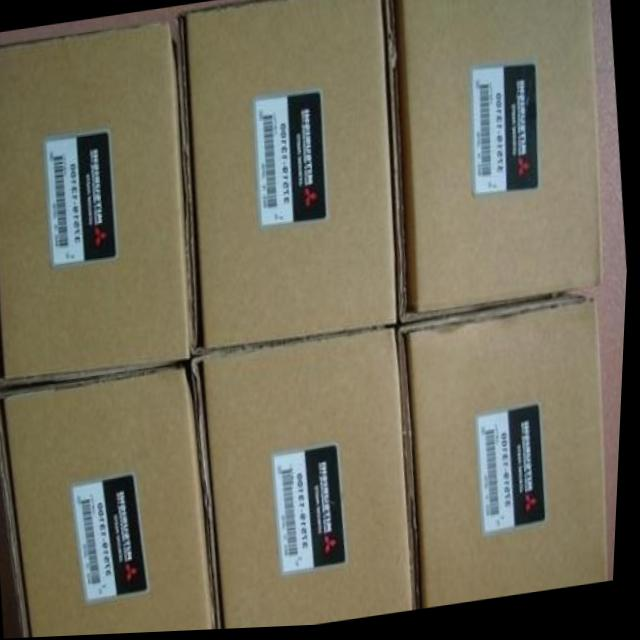box: (176, 0, 403, 354), (0, 23, 199, 387), (387, 0, 606, 328), (192, 328, 424, 631), (398, 292, 613, 611), (0, 356, 223, 638)
